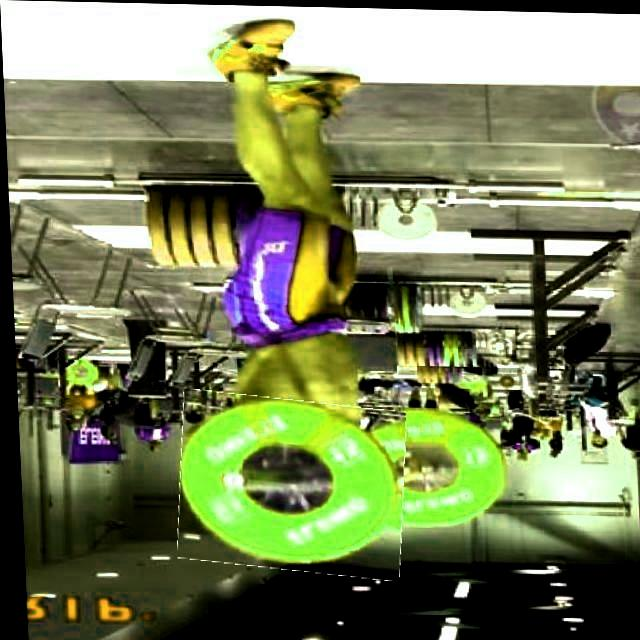barbell: (171, 392, 405, 575)
